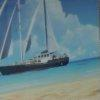Boat: (1, 44, 73, 76)
